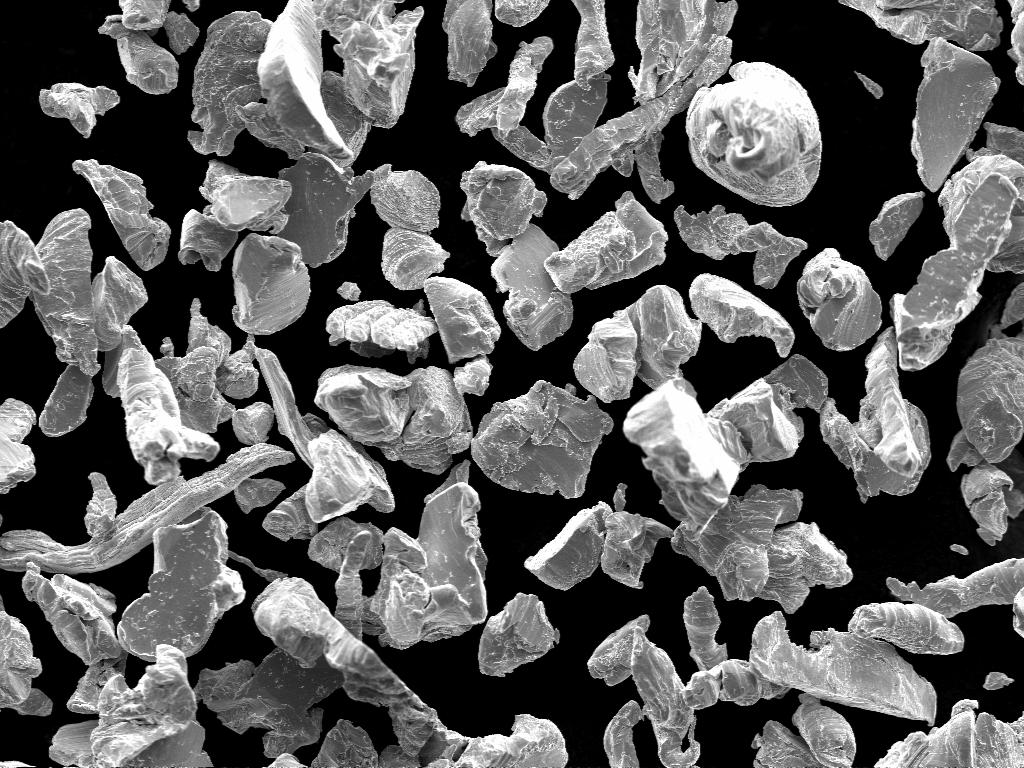Powder: (194, 578, 566, 767), (456, 0, 738, 202), (196, 580, 464, 761), (188, 0, 424, 168), (0, 444, 293, 573), (588, 588, 788, 768), (624, 356, 826, 534), (0, 210, 148, 436), (308, 464, 486, 647), (894, 125, 1024, 370), (256, 348, 394, 540), (672, 484, 852, 612), (460, 162, 572, 350), (314, 356, 492, 474), (750, 612, 936, 721), (50, 644, 210, 767), (686, 62, 822, 206), (118, 510, 246, 661), (820, 328, 930, 501), (848, 558, 1024, 654), (472, 380, 614, 498), (524, 484, 674, 590), (22, 562, 126, 714), (574, 286, 702, 401), (118, 348, 220, 483), (156, 298, 258, 433), (912, 38, 1000, 191), (178, 160, 292, 270), (544, 192, 668, 293), (278, 152, 374, 267), (674, 206, 808, 288), (72, 160, 170, 270), (370, 164, 450, 290), (876, 700, 1024, 768), (948, 338, 1023, 469), (98, 0, 198, 94), (442, 0, 549, 86), (796, 248, 882, 349), (690, 274, 794, 357), (840, 0, 1002, 52), (234, 232, 310, 334), (752, 694, 856, 768), (328, 300, 438, 363), (424, 276, 500, 363), (478, 594, 558, 676), (0, 598, 52, 715), (962, 452, 1024, 545), (40, 82, 120, 138), (870, 192, 924, 259), (0, 398, 36, 493), (234, 478, 286, 513), (232, 402, 274, 445), (1008, 0, 1024, 85), (856, 73, 884, 98), (984, 672, 1014, 689), (336, 282, 360, 301), (950, 544, 968, 555)
